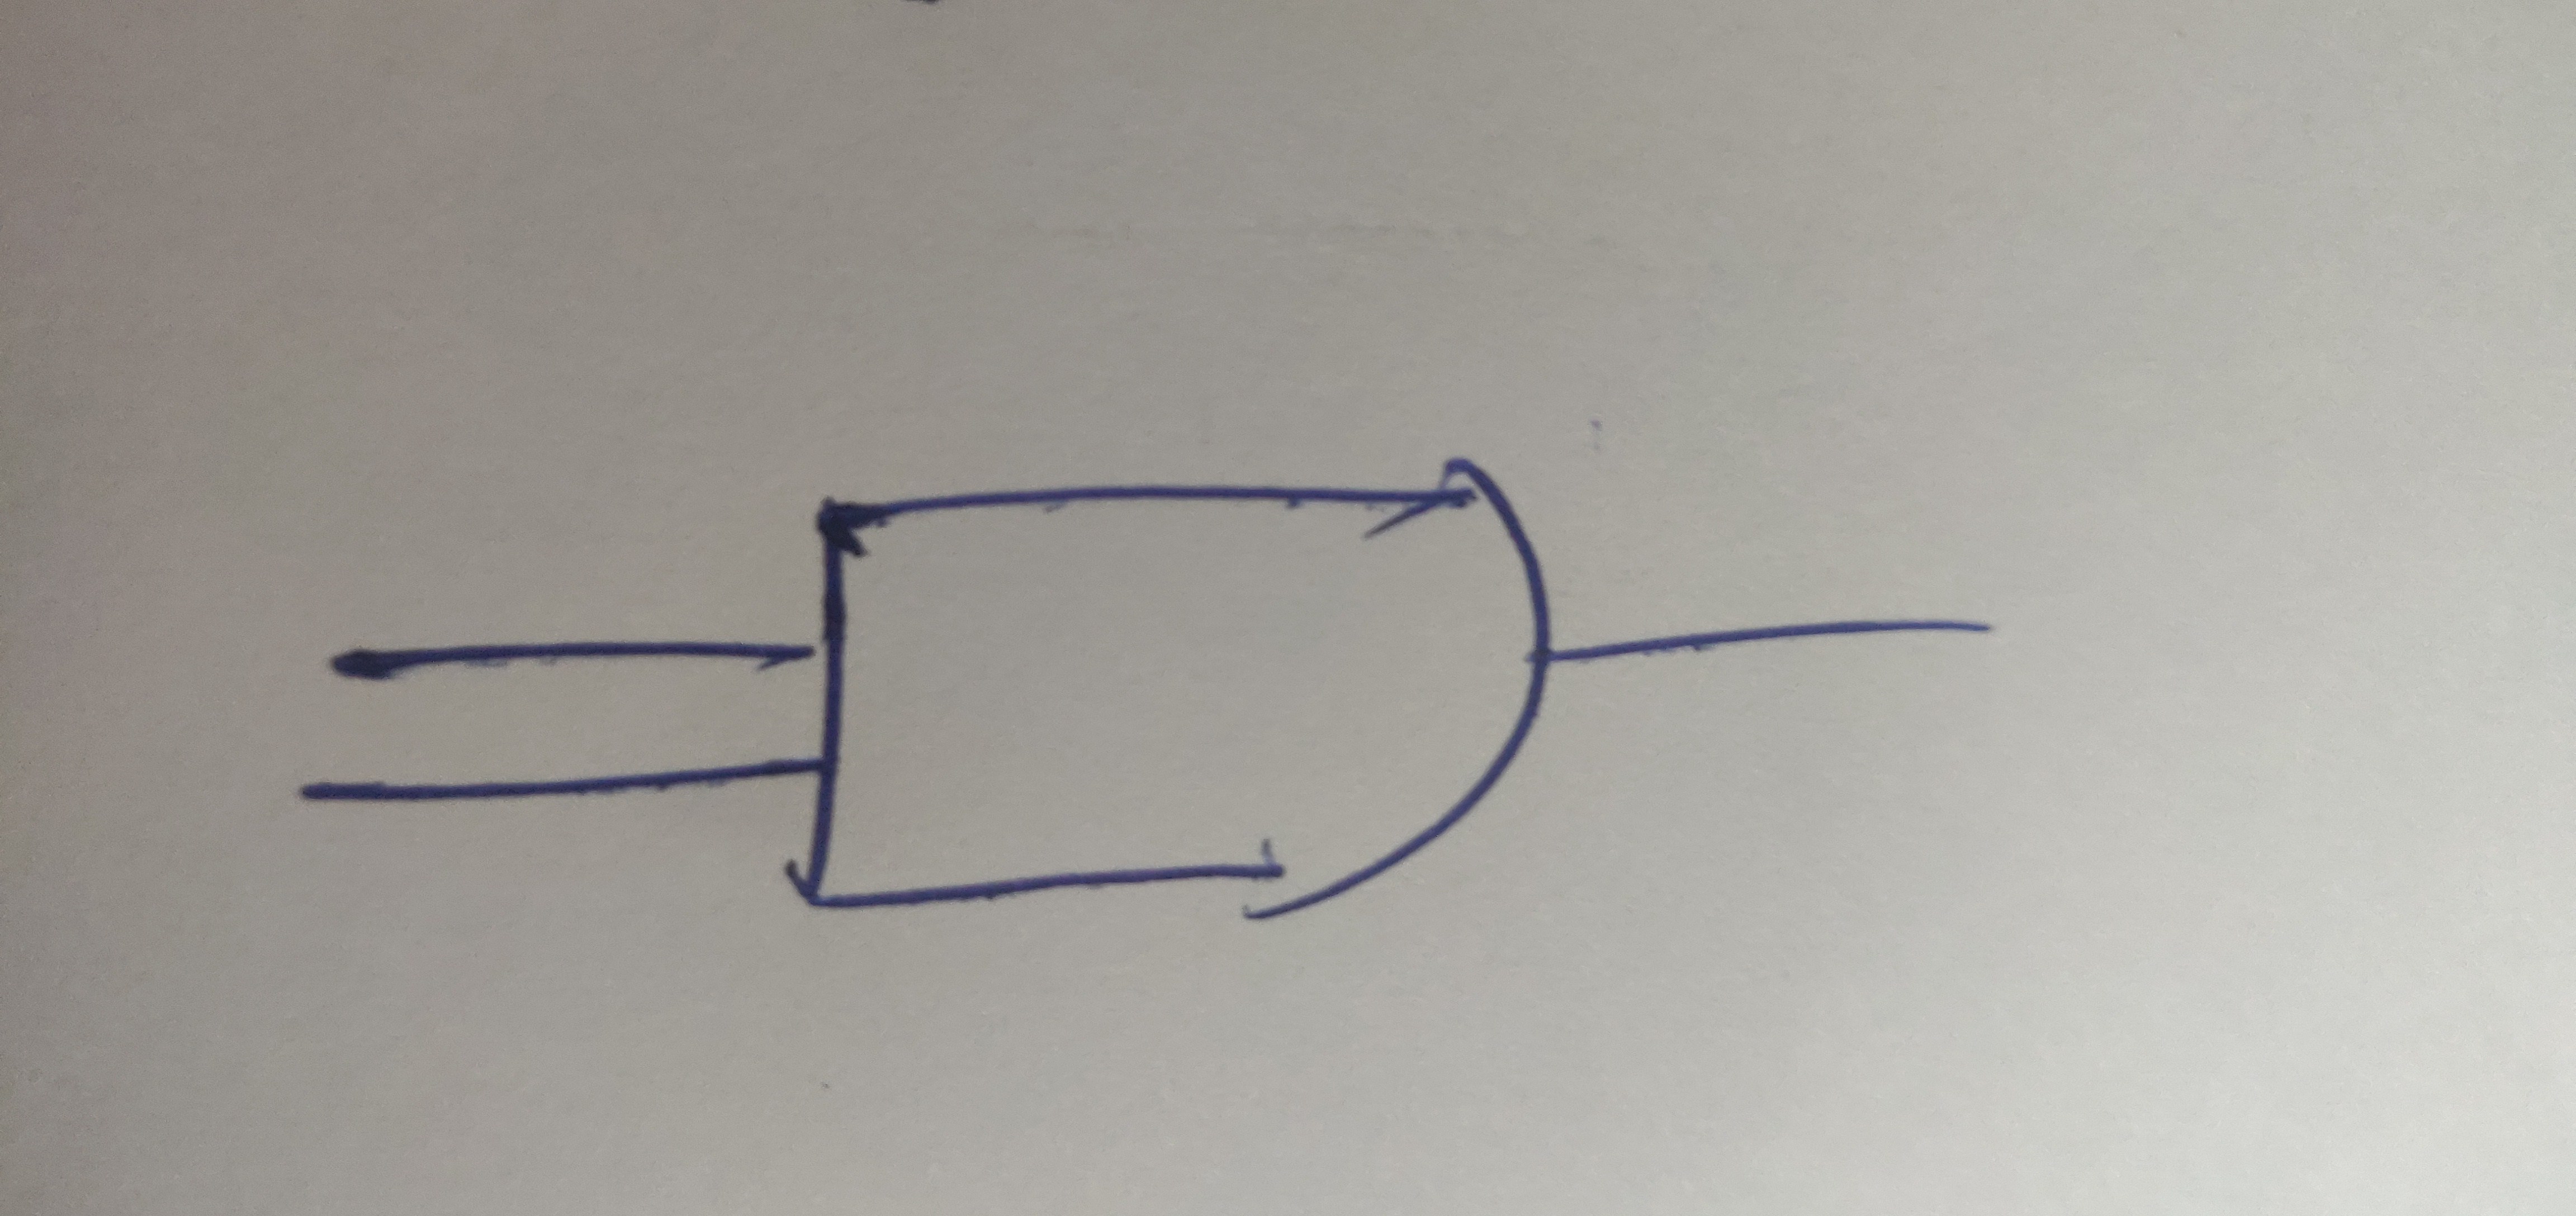and: (705, 391, 1626, 996)
